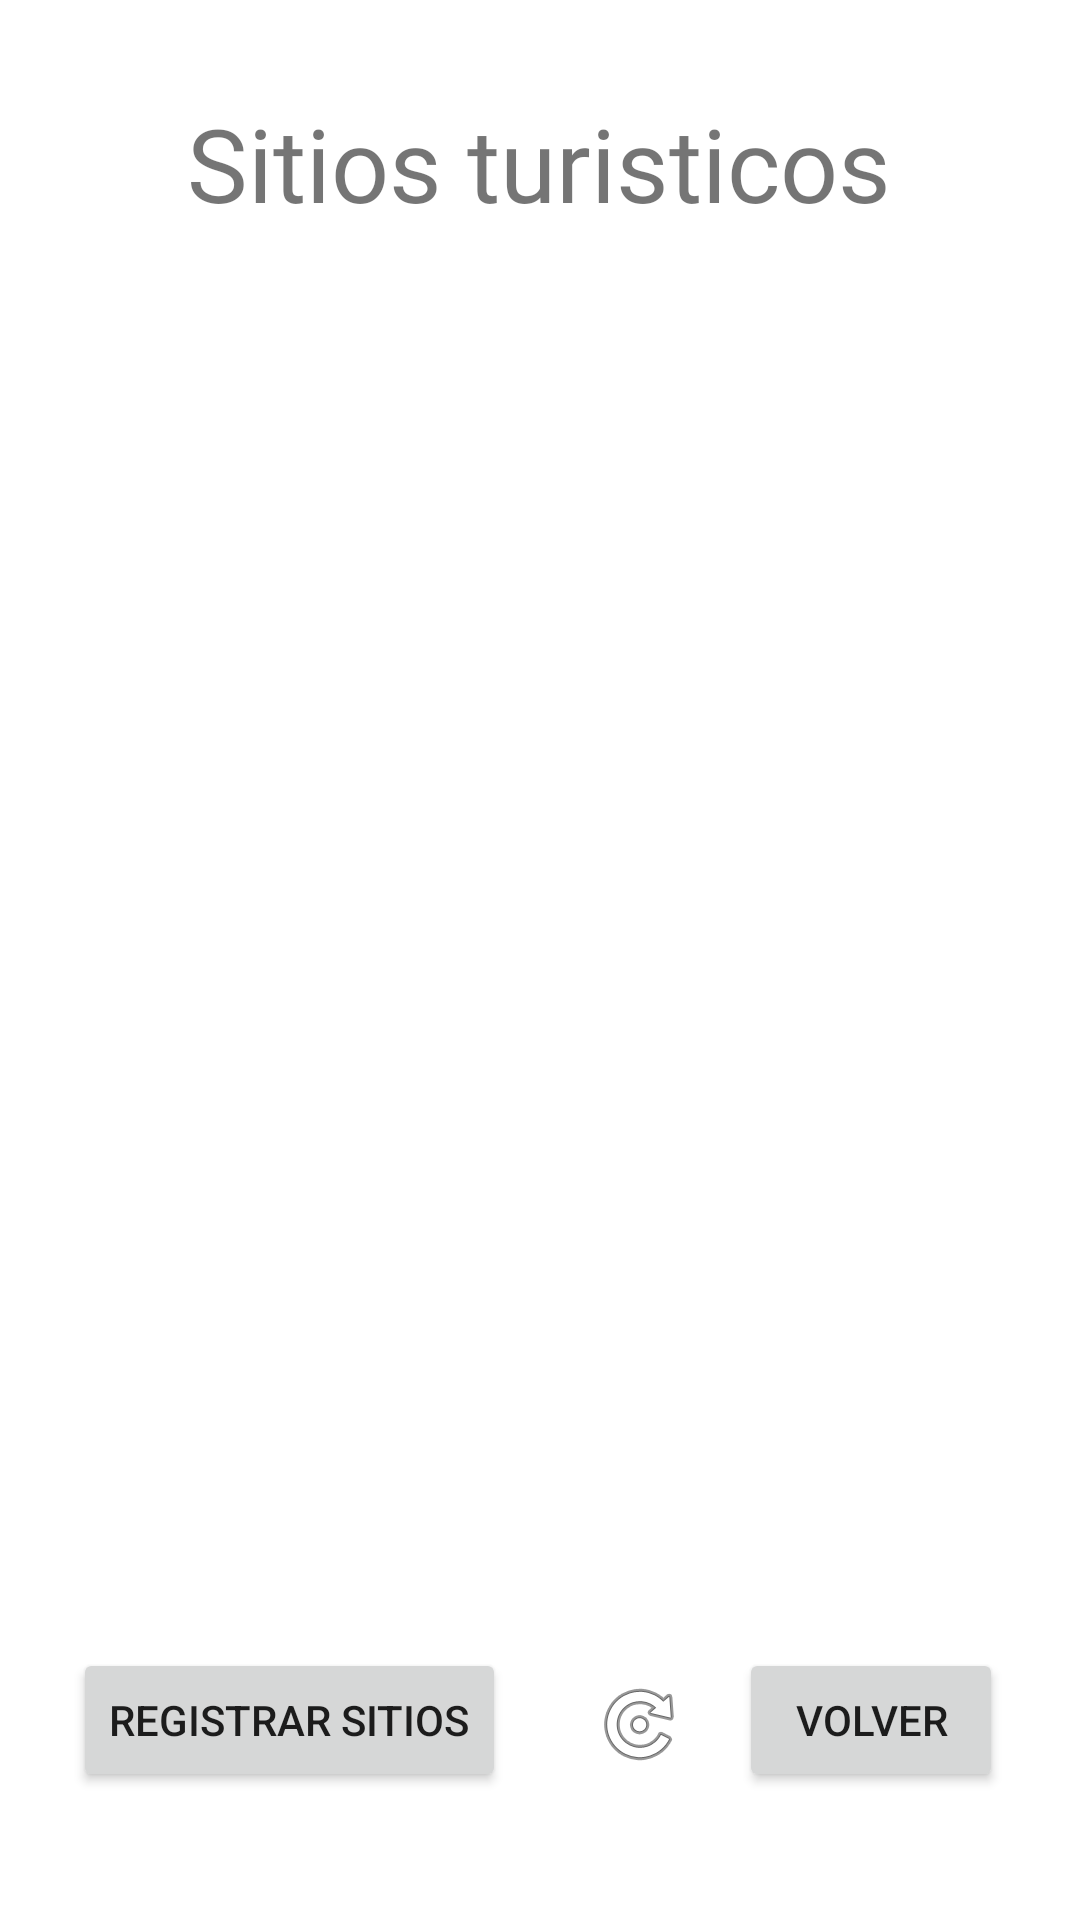

Screen size 1080*1920. Icon name, then its center in pixels as [x,y]:
rotate: [639,1724]
